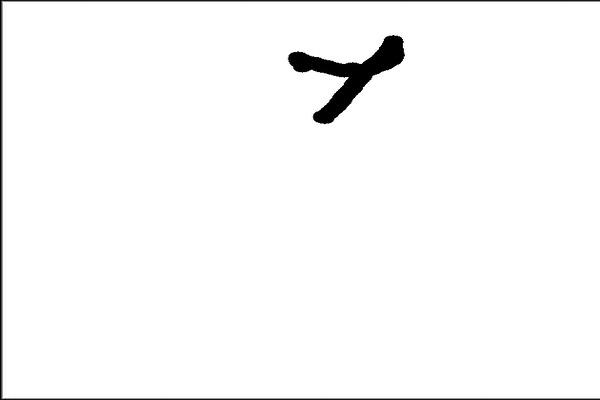Y: (271, 25, 411, 134)
